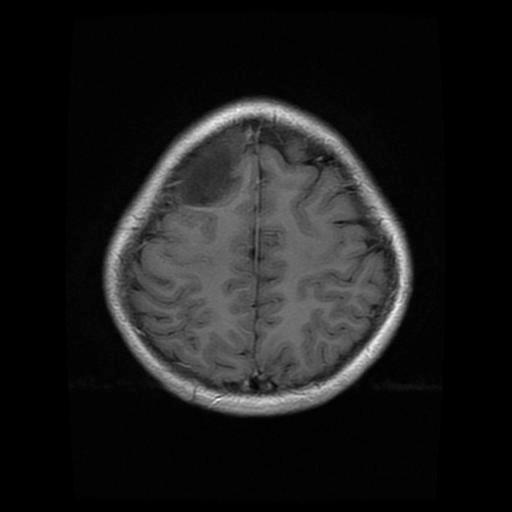Tumour-Glioma: (185, 143, 248, 213)
